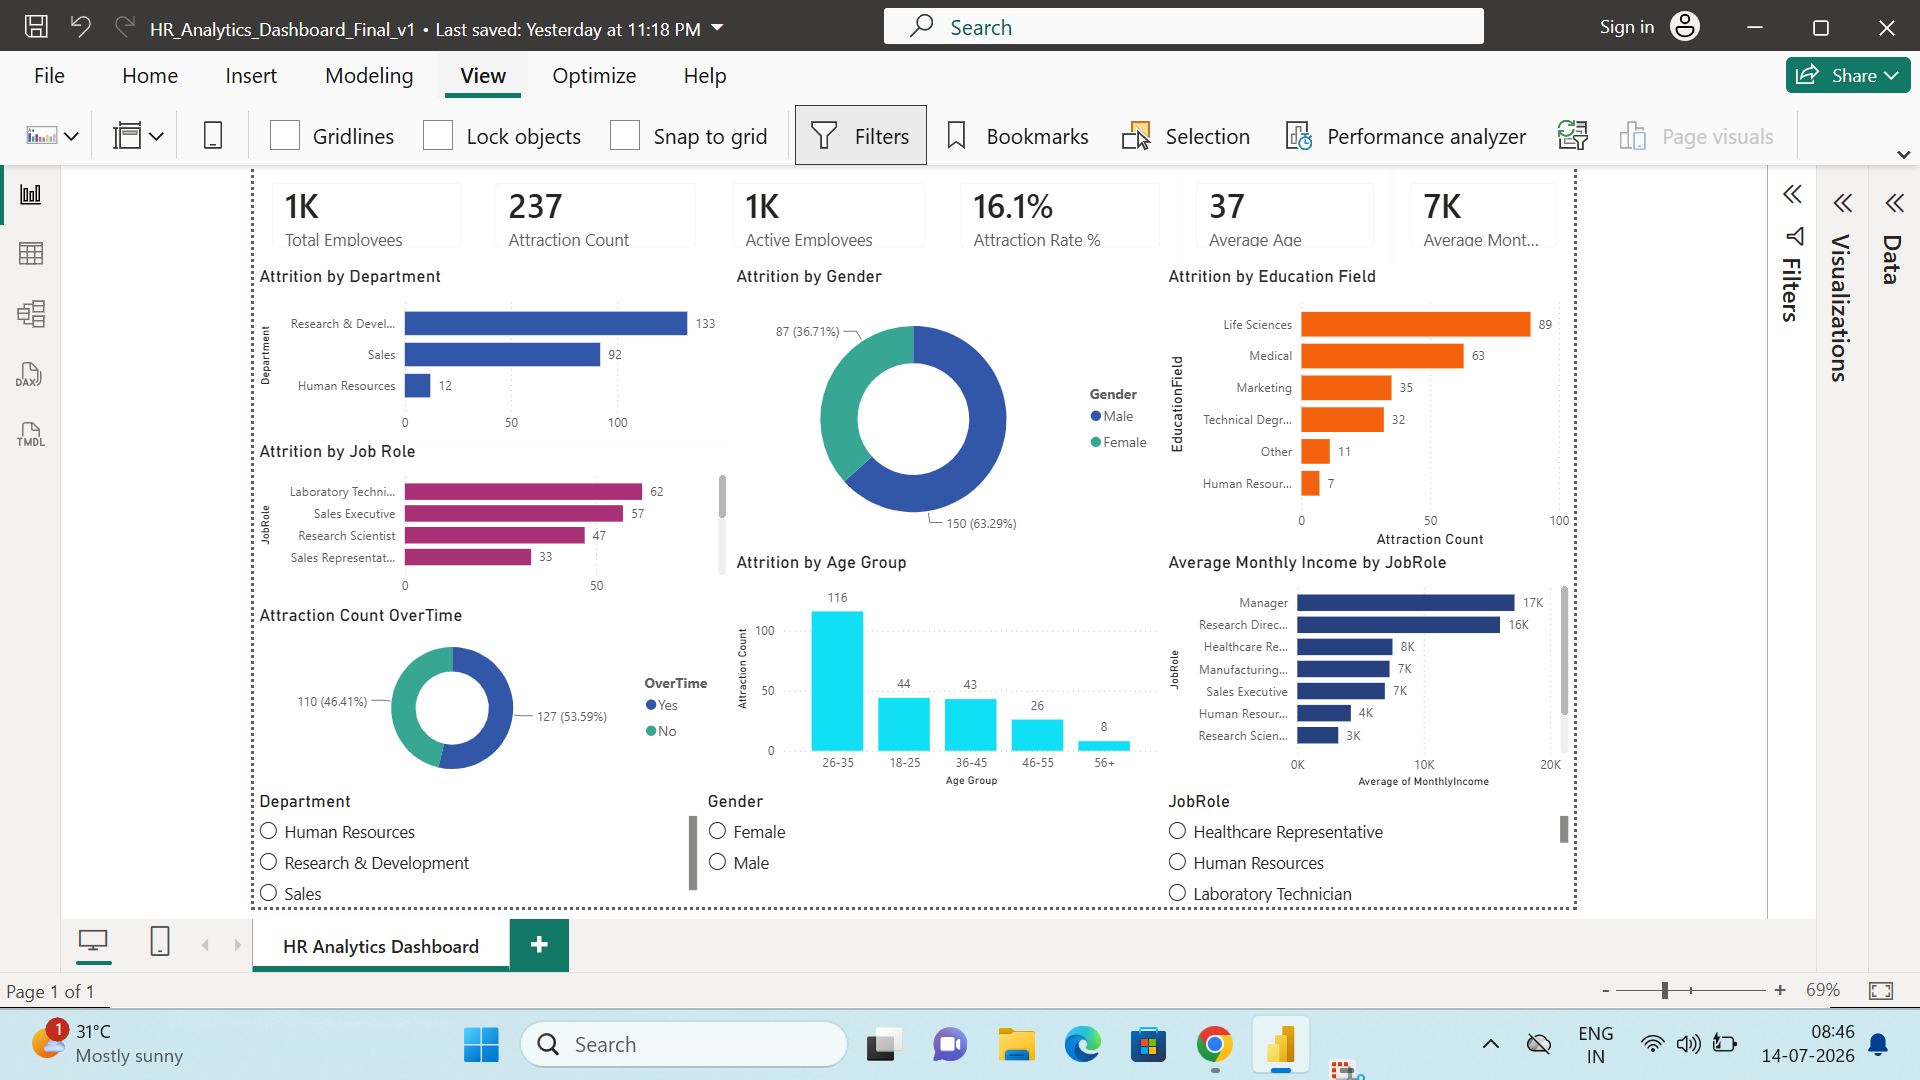

The dashboard page shown, as its layout file describes it:
{"tool":"powerbi","page":{"name":"HR Analytics Dashboard","canvas":[1280,720],"ordinal":0},"visuals":[{"type":"cardVisual","fields":{"Data":["WA_Fn-UseC_-HR-Employee-Attrition.Average Age"]},"box":[897.1,0,207.3,97.2],"z":0},{"type":"cardVisual","fields":{"Data":["WA_Fn-UseC_-HR-Employee-Attrition.Attraction Count"]},"box":[217,0,229.9,97.2],"z":1000},{"type":"cardVisual","fields":{"Data":["WA_Fn-UseC_-HR-Employee-Attrition.Active Employees"]},"box":[446.9,0,221.8,97.2],"z":2000},{"type":"cardVisual","fields":{"Data":["WA_Fn-UseC_-HR-Employee-Attrition.Attraction Rate %"]},"box":[668.7,0,228.3,97.2],"z":3000},{"type":"cardVisual","fields":{"Data":["WA_Fn-UseC_-HR-Employee-Attrition.Total Employees"]},"box":[0,0,218.6,97.2],"z":4000},{"type":"cardVisual","fields":{"Data":["WA_Fn-UseC_-HR-Employee-Attrition.Average Monthly Income"]},"box":[1104.3,0,176.5,97.2],"z":5000},{"type":"clusteredBarChart","title":"Attrition by Department","fields":{"Category":["WA_Fn-UseC_-HR-Employee-Attrition.Department"],"Y":["WA_Fn-UseC_-HR-Employee-Attrition.Attraction Count"]},"box":[0,97.2,463.1,170],"z":6000},{"type":"donutChart","title":"Attrition by Gender","fields":{"Category":["WA_Fn-UseC_-HR-Employee-Attrition.Gender"],"Y":["WA_Fn-UseC_-HR-Employee-Attrition.Attraction Count"]},"box":[462.9,97.5,419.2,278],"z":7000},{"type":"clusteredBarChart","title":"Attrition by Job Role","fields":{"Category":["WA_Fn-UseC_-HR-Employee-Attrition.JobRole"],"Y":["WA_Fn-UseC_-HR-Employee-Attrition.Attraction Count"]},"box":[0,267.2,463.1,158.7],"z":8000},{"type":"clusteredColumnChart","title":"Attrition by Age Group","fields":{"Category":["WA_Fn-UseC_-HR-Employee-Attrition.Age Group"],"Y":["WA_Fn-UseC_-HR-Employee-Attrition.Attraction Count"]},"box":[463.1,375.7,419.4,231.5],"z":9000},{"type":"clusteredBarChart","title":"Attrition by Education Field","fields":{"Category":["WA_Fn-UseC_-HR-Employee-Attrition.EducationField"],"Y":["WA_Fn-UseC_-HR-Employee-Attrition.Attraction Count"]},"box":[882.1,97.5,398.8,278],"z":10000},{"type":"clusteredBarChart","title":"Average  Monthly Income by JobRole","fields":{"Category":["WA_Fn-UseC_-HR-Employee-Attrition.JobRole"],"Y":["Avg(WA_Fn-UseC_-HR-Employee-Attrition.MonthlyIncome)"]},"box":[882.5,375.7,398.3,233.2],"z":11000},{"type":"listSlicer","fields":{"Values":["WA_Fn-UseC_-HR-Employee-Attrition.Department"]},"box":[0,607.2,435.6,113.3],"z":12000},{"type":"listSlicer","fields":{"Values":["WA_Fn-UseC_-HR-Employee-Attrition.Gender"]},"box":[435.6,607.2,446.9,113.3],"z":13000},{"type":"listSlicer","fields":{"Values":["WA_Fn-UseC_-HR-Employee-Attrition.JobRole"]},"box":[882.5,607.2,398.3,113.3],"z":14000},{"type":"donutChart","title":"Attraction Count  OverTime","fields":{"Y":["WA_Fn-UseC_-HR-Employee-Attrition.Attraction Count"],"Category":["WA_Fn-UseC_-HR-Employee-Attrition.OverTime"]},"box":[0,426,463,181],"z":15000}]}

Visuals, with their boxes on the page's 1280x720 design canvas (x1, y1, x2, y2). These are canvas units, not pixel positions in the 1920x1080 screenshot, which may show the page scaled, cropped or inside an application window:
cardVisual - WA_Fn-UseC_-HR-Employee-Attrition.Average Age: {"left": 897, "top": 0, "right": 1104, "bottom": 97}
cardVisual - WA_Fn-UseC_-HR-Employee-Attrition.Attraction Count: {"left": 217, "top": 0, "right": 447, "bottom": 97}
cardVisual - WA_Fn-UseC_-HR-Employee-Attrition.Active Employees: {"left": 447, "top": 0, "right": 669, "bottom": 97}
cardVisual - WA_Fn-UseC_-HR-Employee-Attrition.Attraction Rate %: {"left": 669, "top": 0, "right": 897, "bottom": 97}
cardVisual - WA_Fn-UseC_-HR-Employee-Attrition.Total Employees: {"left": 0, "top": 0, "right": 219, "bottom": 97}
cardVisual - WA_Fn-UseC_-HR-Employee-Attrition.Average Monthly Income: {"left": 1104, "top": 0, "right": 1281, "bottom": 97}
"Attrition by Department" clusteredBarChart: {"left": 0, "top": 97, "right": 463, "bottom": 267}
"Attrition by Gender" donutChart: {"left": 463, "top": 98, "right": 882, "bottom": 376}
"Attrition by Job Role" clusteredBarChart: {"left": 0, "top": 267, "right": 463, "bottom": 426}
"Attrition by Age Group" clusteredColumnChart: {"left": 463, "top": 376, "right": 882, "bottom": 607}
"Attrition by Education Field" clusteredBarChart: {"left": 882, "top": 98, "right": 1281, "bottom": 376}
"Average  Monthly Income by JobRole" clusteredBarChart: {"left": 882, "top": 376, "right": 1281, "bottom": 609}
listSlicer - WA_Fn-UseC_-HR-Employee-Attrition.Department: {"left": 0, "top": 607, "right": 436, "bottom": 720}
listSlicer - WA_Fn-UseC_-HR-Employee-Attrition.Gender: {"left": 436, "top": 607, "right": 882, "bottom": 720}
listSlicer - WA_Fn-UseC_-HR-Employee-Attrition.JobRole: {"left": 882, "top": 607, "right": 1281, "bottom": 720}
"Attraction Count  OverTime" donutChart: {"left": 0, "top": 426, "right": 463, "bottom": 607}
